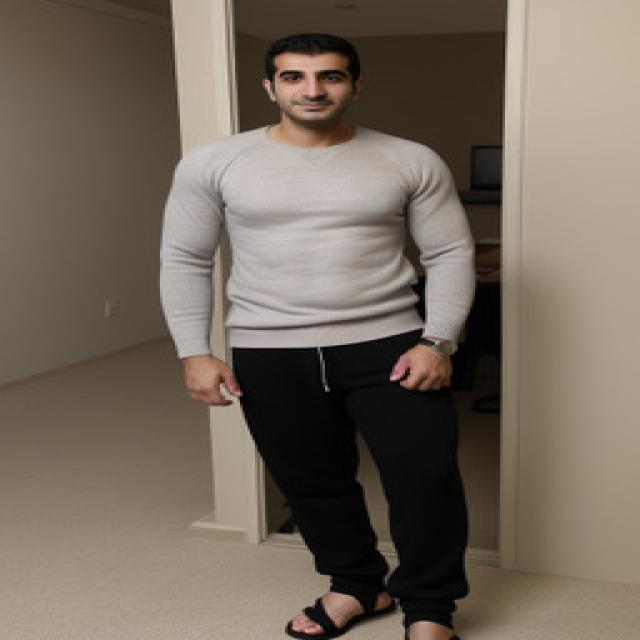Ai human 2: (132, 26, 518, 640)
